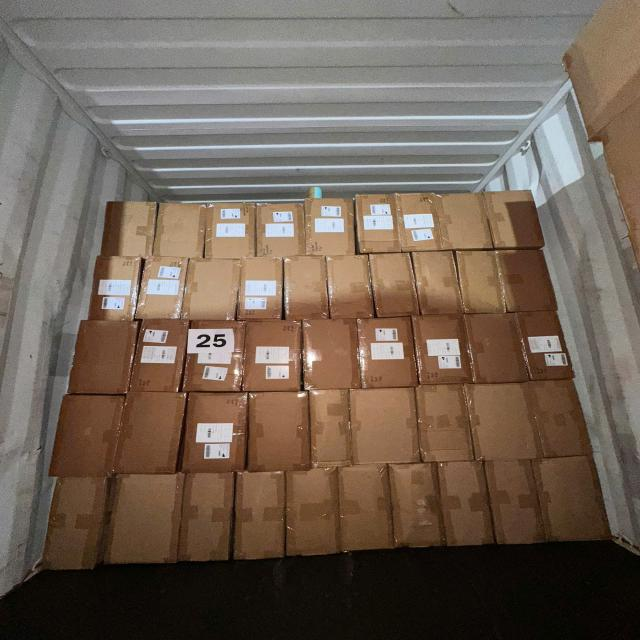Carton: (528, 454, 614, 544), (45, 390, 127, 480), (461, 379, 547, 462), (36, 474, 108, 573), (111, 474, 185, 569), (525, 378, 597, 459), (482, 458, 549, 545), (116, 390, 186, 473), (181, 390, 250, 472), (349, 390, 418, 468), (247, 391, 311, 472), (180, 475, 234, 567), (288, 467, 342, 558), (70, 318, 135, 393), (232, 471, 284, 562), (340, 464, 393, 553), (442, 460, 495, 547), (182, 321, 244, 394), (391, 461, 443, 548), (414, 386, 470, 466), (245, 318, 304, 392), (465, 315, 525, 387), (358, 318, 416, 391), (497, 248, 562, 312), (414, 315, 472, 386), (306, 320, 362, 392), (85, 253, 142, 323), (132, 319, 187, 391), (480, 188, 544, 248), (188, 260, 242, 323), (526, 312, 572, 382), (312, 391, 354, 467), (414, 250, 462, 316), (104, 200, 157, 259), (303, 197, 355, 257), (203, 200, 254, 260), (157, 198, 208, 258), (368, 252, 414, 318), (138, 258, 186, 321), (439, 191, 490, 250), (328, 255, 372, 322), (282, 254, 327, 319), (458, 249, 503, 314), (255, 200, 305, 258), (240, 256, 285, 320), (356, 193, 398, 254), (399, 192, 440, 252)
